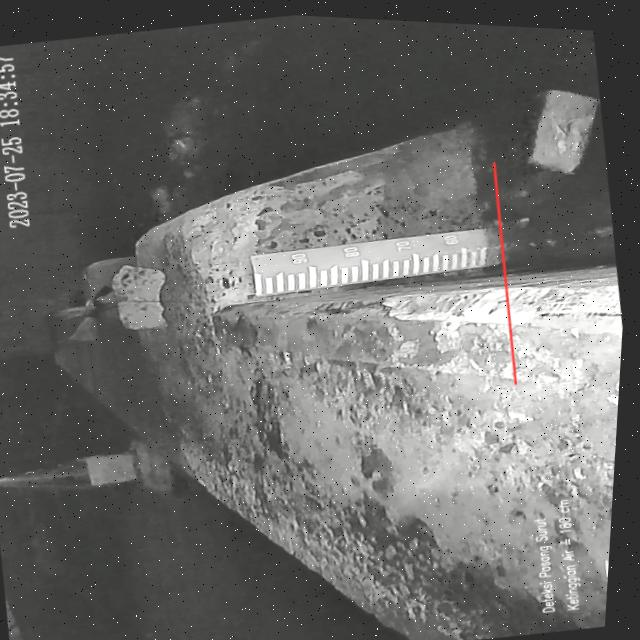water-meter: (235, 207, 508, 315)
